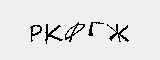Г: (85, 17, 103, 38)
Ж: (105, 22, 132, 43)
К: (44, 22, 61, 43)
Р: (26, 22, 43, 42)
Ф: (65, 19, 85, 42)
